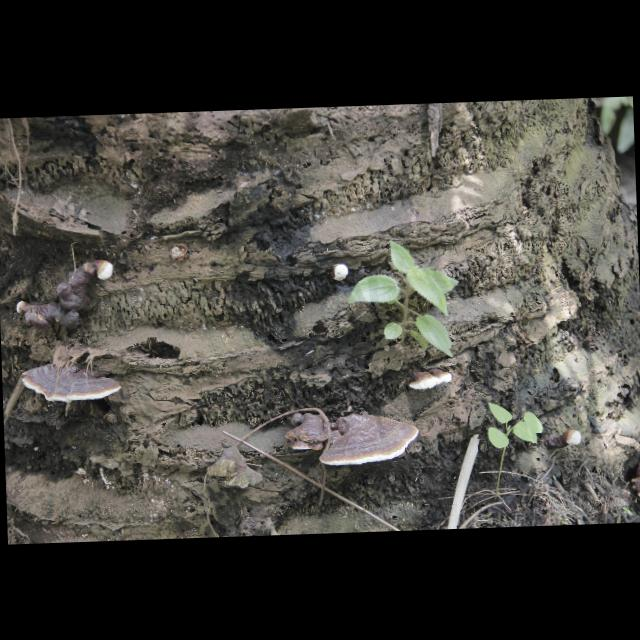ganoderma: (318, 412, 421, 467), (24, 262, 98, 335), (22, 359, 123, 405), (285, 413, 329, 453), (408, 369, 452, 391)
primordium: (96, 260, 115, 281), (562, 430, 582, 448), (330, 264, 349, 282), (17, 302, 29, 314)
